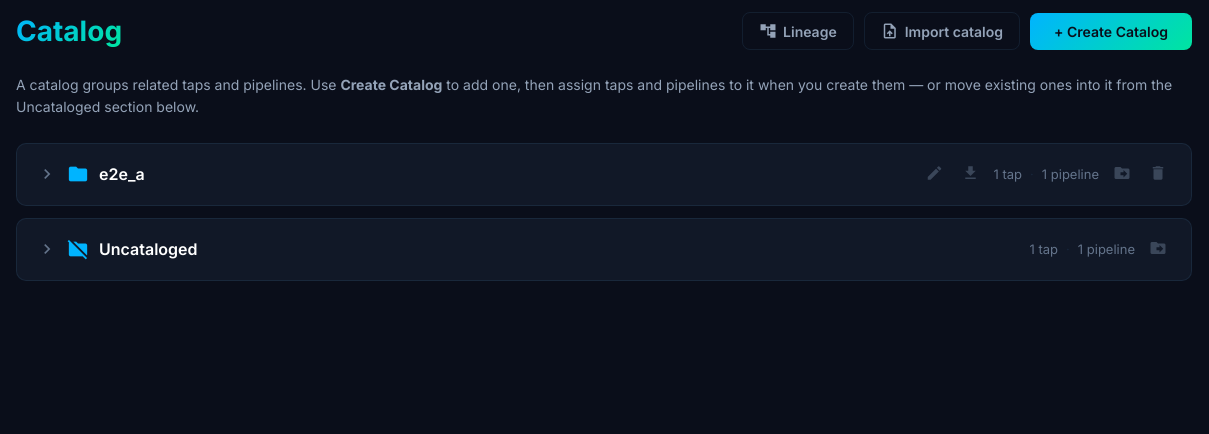
Test case: DataCatalogComponent — catalog rename and delete › rename 409 "already exists" (race) shows the server message with the editor open and reloads the list
The image size is (1209, 434).
expect the element with class "catalog-card" showing "e2e_a 1 tap · 1 pipeline" is shown: met, box [16,143,1192,206]
Click the button with class "rename-catalog-btn".
click(935, 174)  # box [922,160,948,189]
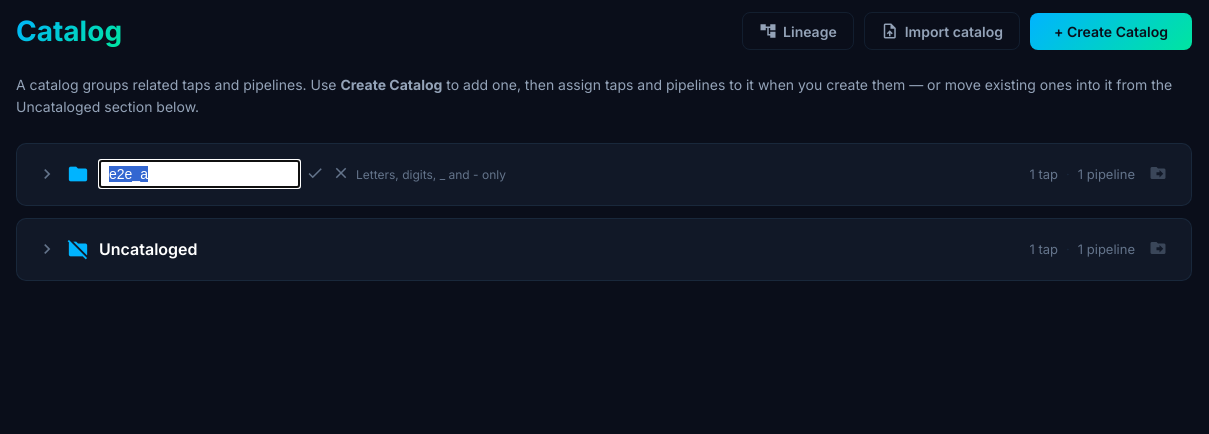
expect the field with class "rename-catalog-input" is shown: met
Replace the text in the field with class "rename-catalog-input" with "e2e_b" at (200, 174), box [99,160,300,188]
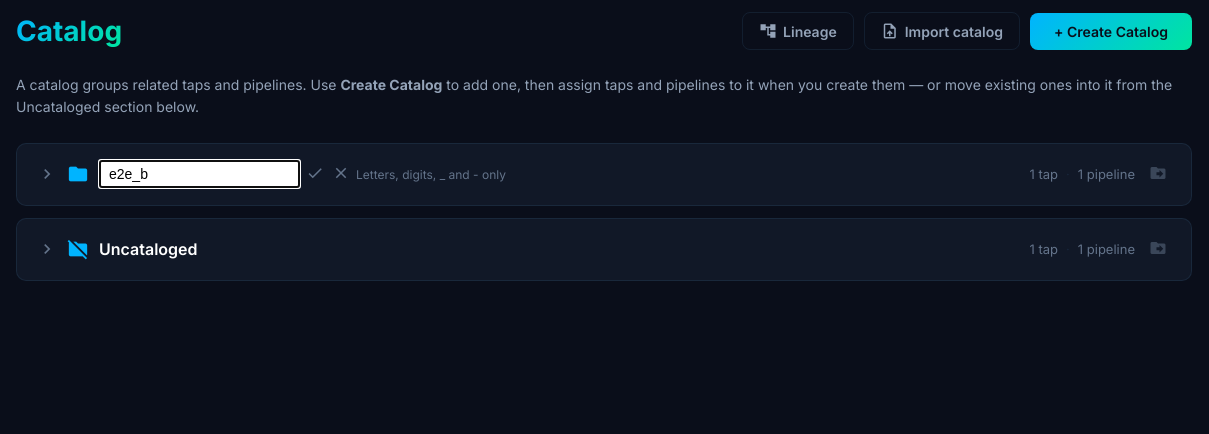
Press Enter in the field with class "rename-catalog-input", box [99,160,300,188]
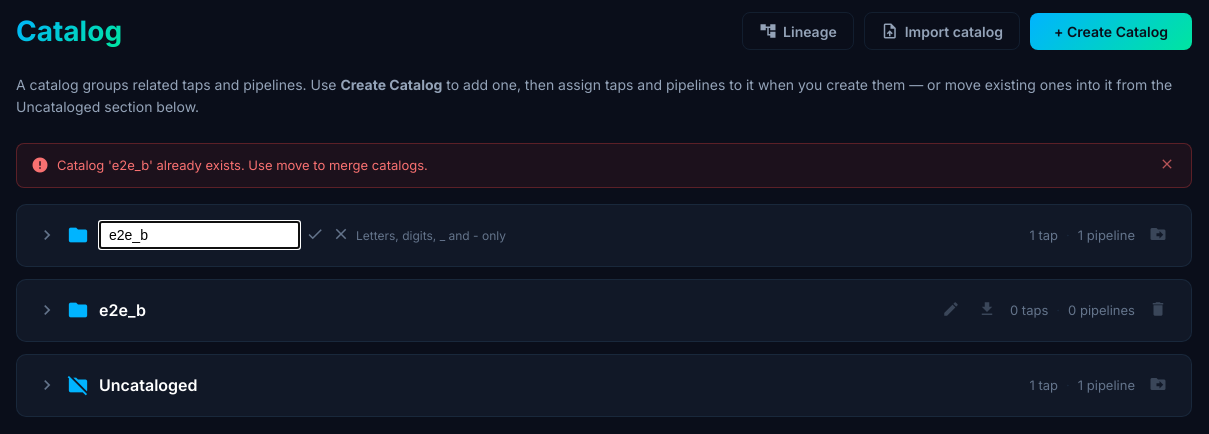
expect the text "Catalog 'e2e_b' already exists. Use move to merge catalogs." is shown: met, box [57,157,428,173]
expect the element with class "move-error-banner" is shown: met, box [16,143,1192,188]
expect the element with class "move-error-banner" reads "Catalog 'e2e_b' already exists. Use move to merge catalogs.": met, box [57,157,428,173]
